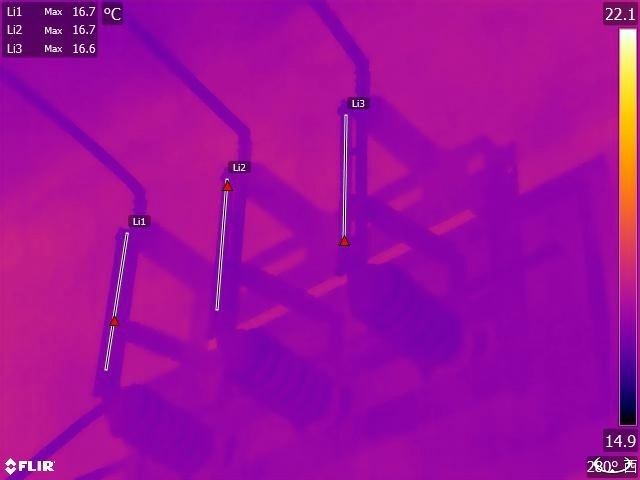post insulator: (219, 329, 355, 433), (100, 378, 222, 476), (351, 264, 462, 371)
tube: (246, 156, 341, 257), (362, 88, 458, 185), (129, 220, 221, 289)
